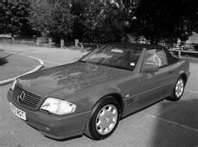car: (5, 41, 191, 142)
